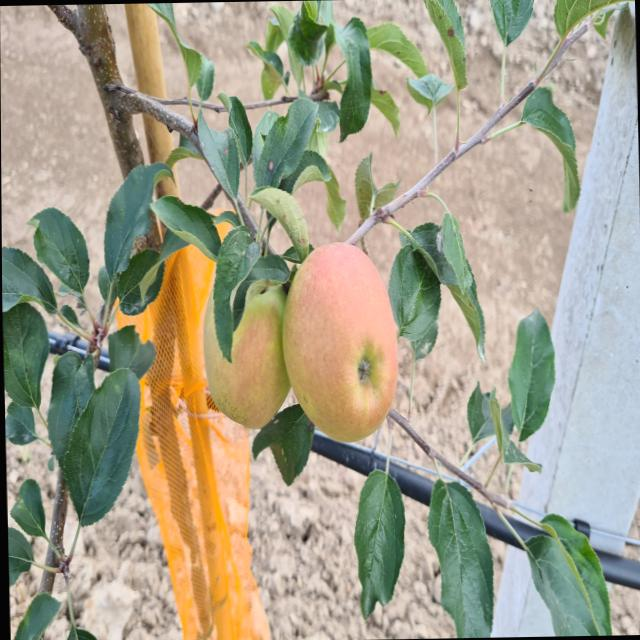Apple: (281, 241, 398, 442), (202, 279, 290, 428)
